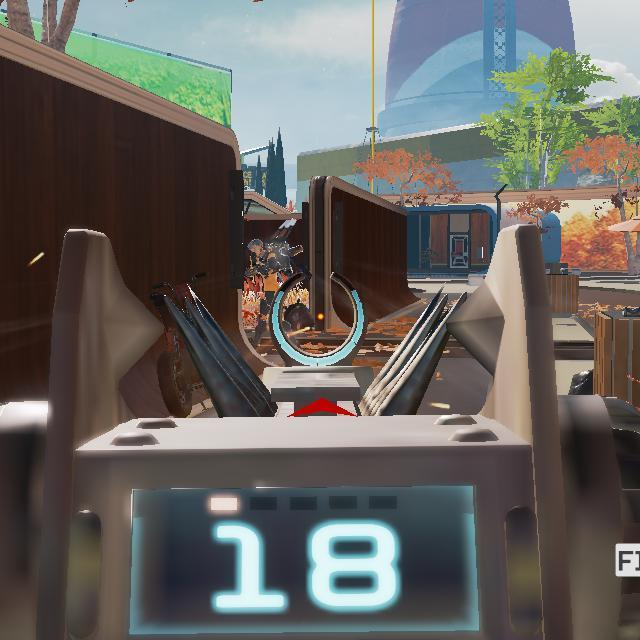avatar: (246, 236, 282, 350)
